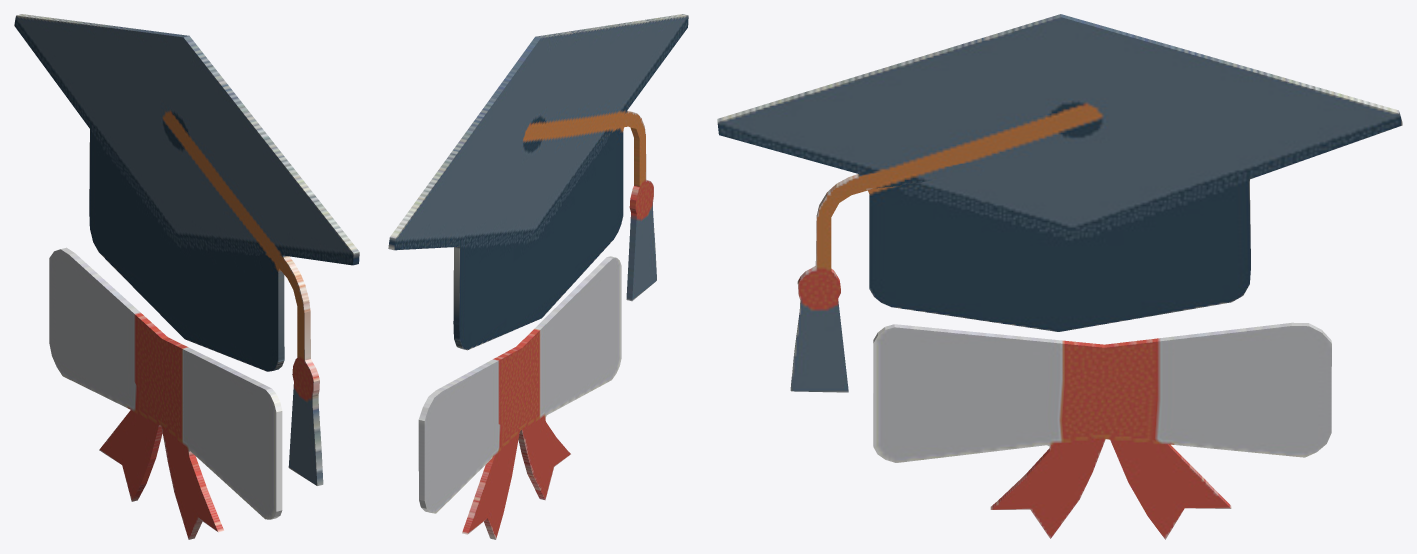
Rendered from DEGREE ICON.fbx.
The picture shows the model from 3 angles, left to right: view 1: azimuth 30°, elevation 25°; view 2: azimuth 150°, elevation 25°; view 3: azimuth 270°, elevation 25°; orthographic projection. The views are drawn at different scales.
Parts seen in each view (by area): view 1: Plane.012; view 2: Plane.012; view 3: Plane.012.
Boxes of the visible parts, left/top/right/bottom form: Plane.012: left=14, top=14, right=359, bottom=539; Plane.012: left=388, top=14, right=688, bottom=539; Plane.012: left=717, top=14, right=1402, bottom=539.
Bounding box in the file's own units: 1.83 × 48.36 × 57.34.
Materials: 1 (1 with a texture image).
